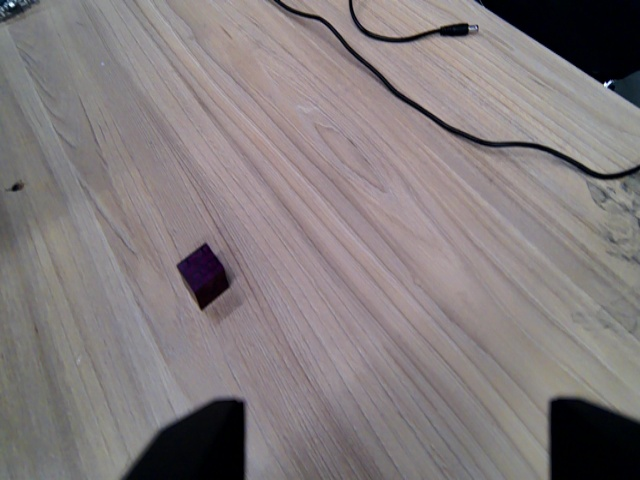brick: (171, 244, 231, 314)
